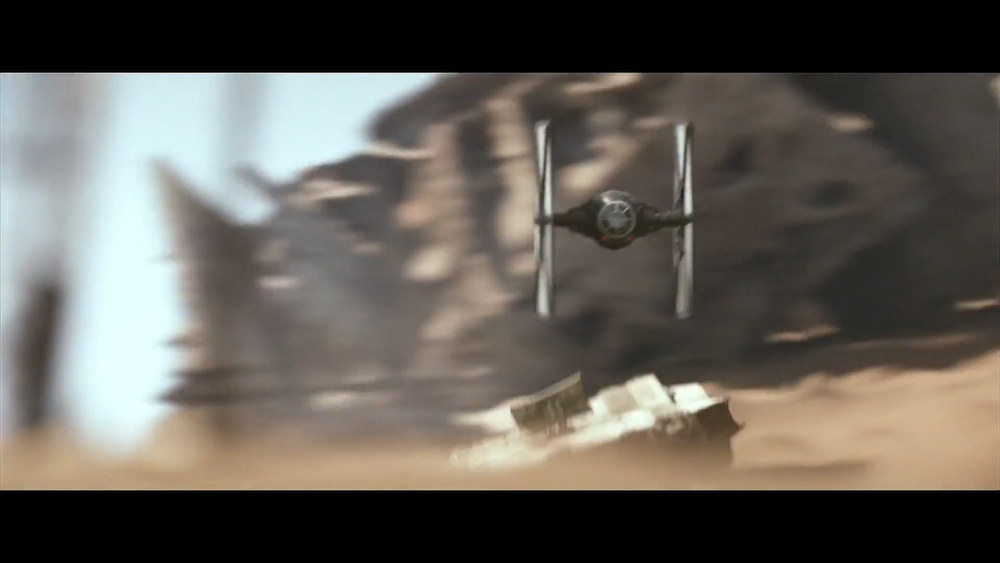Tie Fighter: (531, 117, 699, 322)
